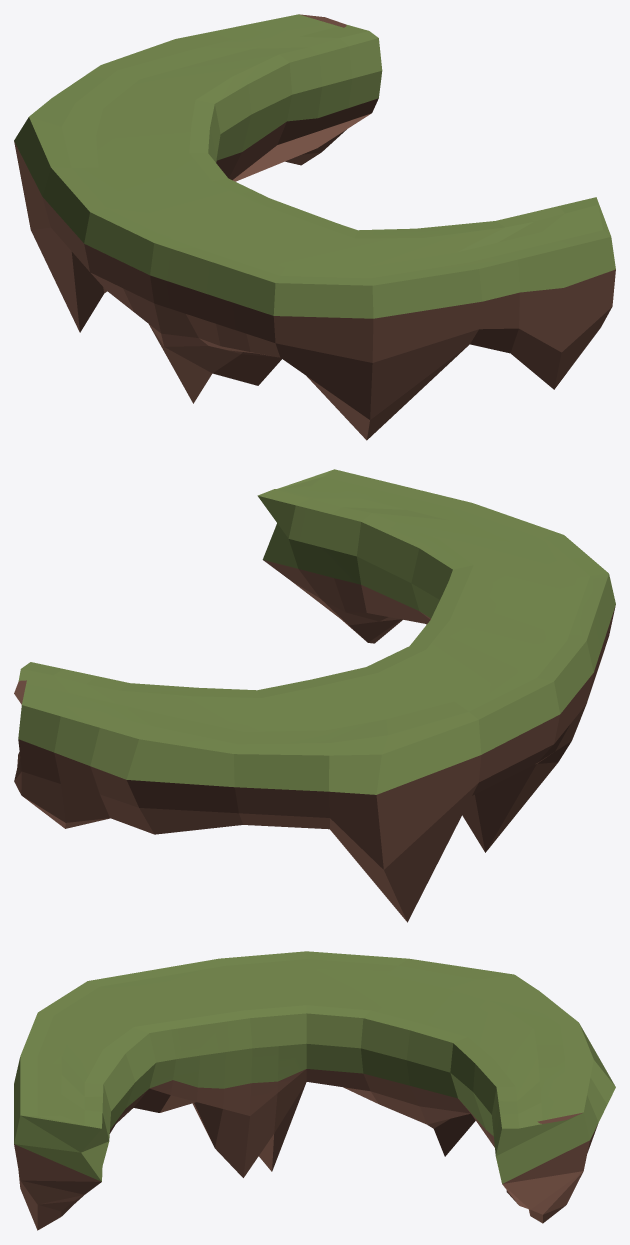
File: halfdonut_platform.fbx
3 views of the same model, one above another, from view 1: azimuth 30°, elevation 25°; view 2: azimuth 150°, elevation 25°; view 3: azimuth 270°, elevation 25° (orthographic). The views are drawn at different scales.
Parts seen in each view (by area): view 1: Torus; view 2: Torus; view 3: Torus.
Part boxes in pixels (<box>): Torus: <box>14,14,615,440</box>; Torus: <box>14,469,615,922</box>; Torus: <box>14,951,615,1230</box>.
Size of the model in its own units: 15165 by 7173 by 21291.
